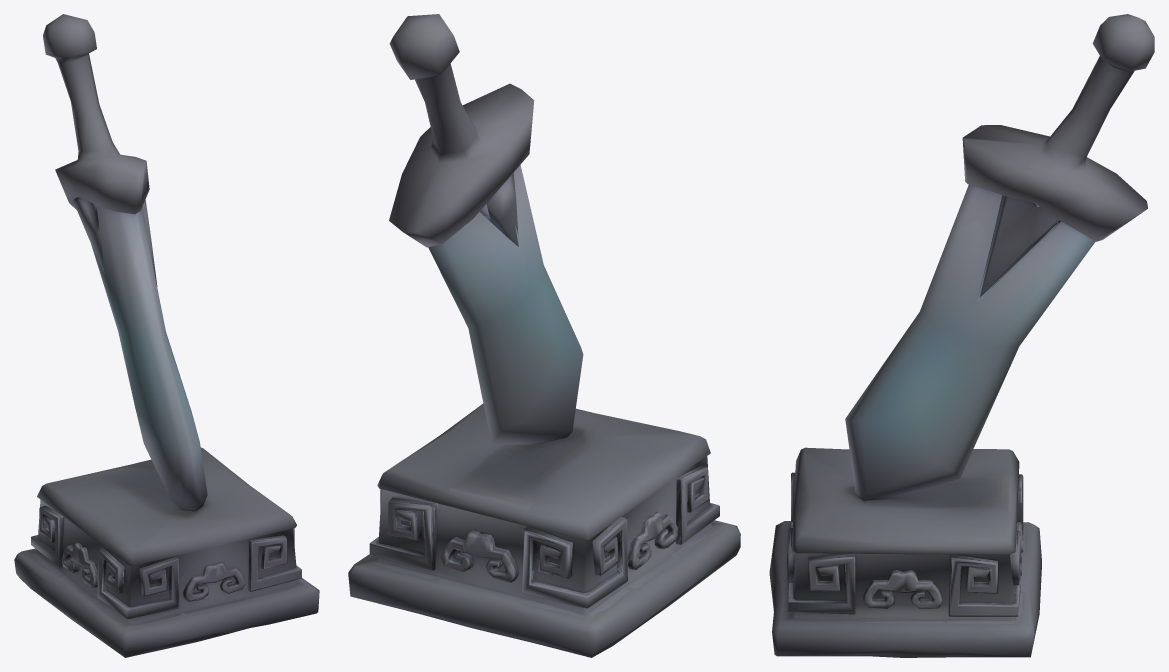
The model's file is metal_nourish_t1.glb.
3 views of the same model, side by side, from view 1: azimuth 30°, elevation 25°; view 2: azimuth 150°, elevation 25°; view 3: azimuth 270°, elevation 25° (orthographic). The views are drawn at different scales.
Visible parts, largest first — view 1: tripo_node_f8e1f522-1c2c-4ccc-bbf2-fa760523e09c; view 2: tripo_node_f8e1f522-1c2c-4ccc-bbf2-fa760523e09c; view 3: tripo_node_f8e1f522-1c2c-4ccc-bbf2-fa760523e09c.
Boxes of the visible parts, box(x1,y1,x2,y2) form: tripo_node_f8e1f522-1c2c-4ccc-bbf2-fa760523e09c: box(14, 14, 319, 657); tripo_node_f8e1f522-1c2c-4ccc-bbf2-fa760523e09c: box(348, 14, 740, 657); tripo_node_f8e1f522-1c2c-4ccc-bbf2-fa760523e09c: box(769, 14, 1154, 657).
Bounding box in the file's own units: 0.4238 × 0.998 × 0.5957.
1 material, 1 textured.
